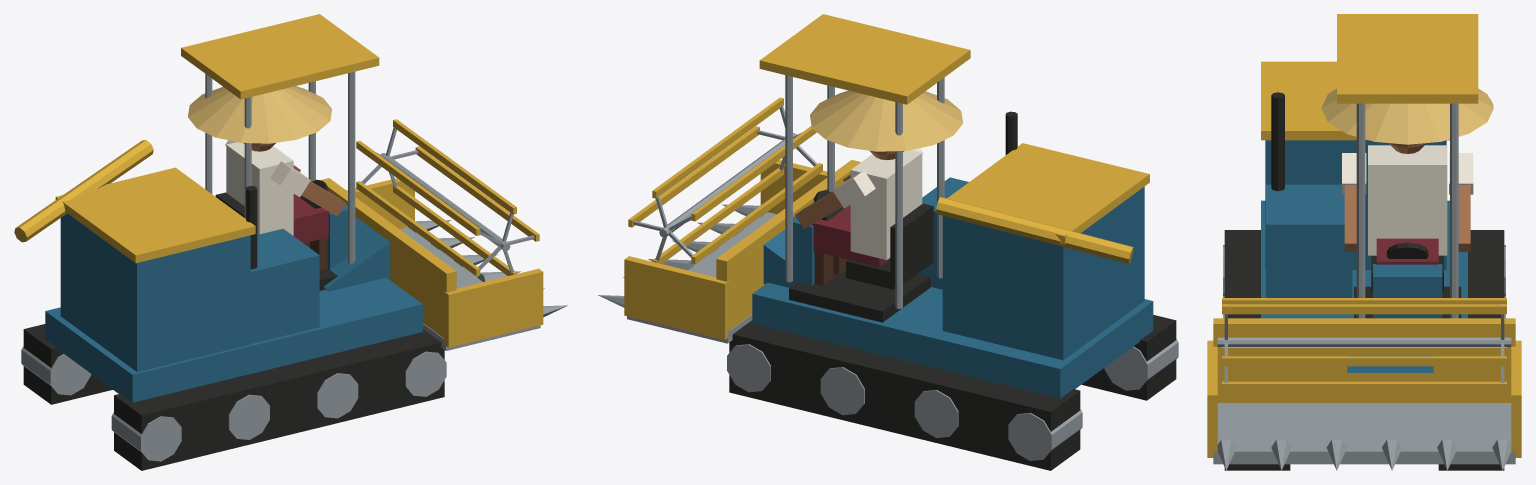
Rendered from harvester.glb.
3 renders of one model, left to right at view 1: azimuth 30°, elevation 25°; view 2: azimuth 150°, elevation 25°; view 3: azimuth 270°, elevation 25°, orthographic. The views are drawn at different scales.
Visible parts, largest first — view 1: tank, trackR, chassis, tankLid, canopy, engine, drv_hat, headerSideR, headerBack, drv_chest, unloader, feeder (+22 smaller); view 2: tank, trackL, chassis, canopy, tankLid, drv_hat, headerSideL, drv_chest, headerBack, deck, unloader, trackR (+25 smaller); view 3: headerFloor, headerBack, canopy, engine, drv_chest, drv_hat, tankLid, tank, bat0, bat1, bat4, trackR (+25 smaller).
Part boxes in pixels (bbox=[...]): tank: bbox=[60, 213, 250, 371]; trackR: bbox=[114, 329, 444, 470]; chassis: bbox=[45, 277, 422, 402]; tankLid: bbox=[55, 167, 255, 263]; canopy: bbox=[181, 14, 379, 99]; engine: bbox=[250, 228, 319, 343]; drv_hat: bbox=[188, 86, 332, 143]; headerSideR: bbox=[444, 268, 543, 347]; headerBack: bbox=[320, 178, 456, 338]; drv_chest: bbox=[226, 142, 293, 235]; unloader: bbox=[14, 140, 153, 242]; feeder: bbox=[323, 217, 390, 291]; tank: bbox=[942, 186, 1144, 360]; trackL: bbox=[729, 320, 1080, 470]; chassis: bbox=[752, 282, 1153, 398]; canopy: bbox=[759, 14, 970, 104]; tankLid: bbox=[947, 143, 1149, 244]; drv_hat: bbox=[810, 90, 963, 151]; headerSideL: bbox=[624, 256, 729, 339]; drv_chest: bbox=[850, 150, 922, 259]; headerBack: bbox=[716, 160, 860, 329]; deck: bbox=[789, 270, 930, 322]; unloader: bbox=[935, 197, 1133, 263]; trackR: bbox=[1081, 315, 1176, 400]; headerFloor: bbox=[1213, 403, 1515, 464]; headerBack: bbox=[1213, 318, 1515, 402]; canopy: bbox=[1337, 14, 1478, 103]; engine: bbox=[1266, 184, 1352, 297]; drv_chest: bbox=[1368, 145, 1447, 255]; drv_hat: bbox=[1321, 88, 1493, 144]; tankLid: bbox=[1261, 61, 1449, 140]; tank: bbox=[1265, 140, 1446, 269]; bat0: bbox=[1222, 356, 1506, 366]; bat1: bbox=[1222, 304, 1506, 314]; bat4: bbox=[1222, 381, 1506, 391]; trackR: bbox=[1224, 230, 1290, 470].
Bounding box in the file's own units: 3.72 × 2.34 × 1.82.
